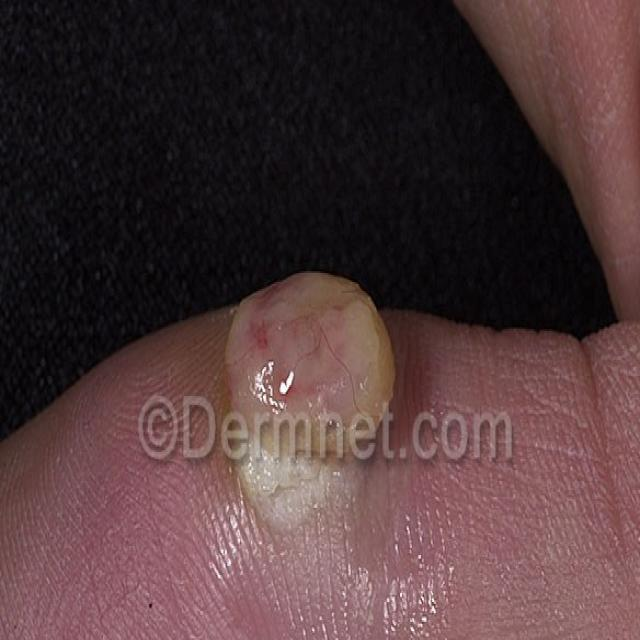Vascular Tumors: (221, 270, 403, 540)
